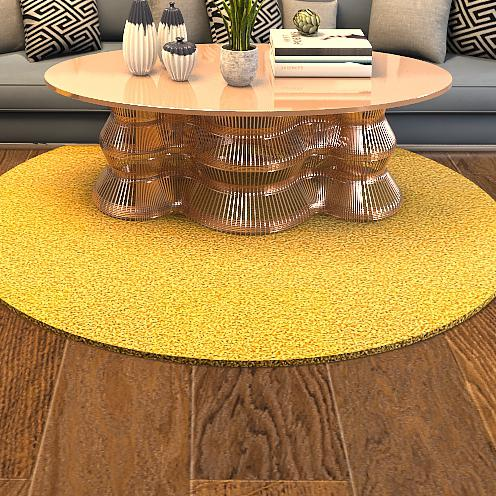table: (44, 38, 451, 227)
